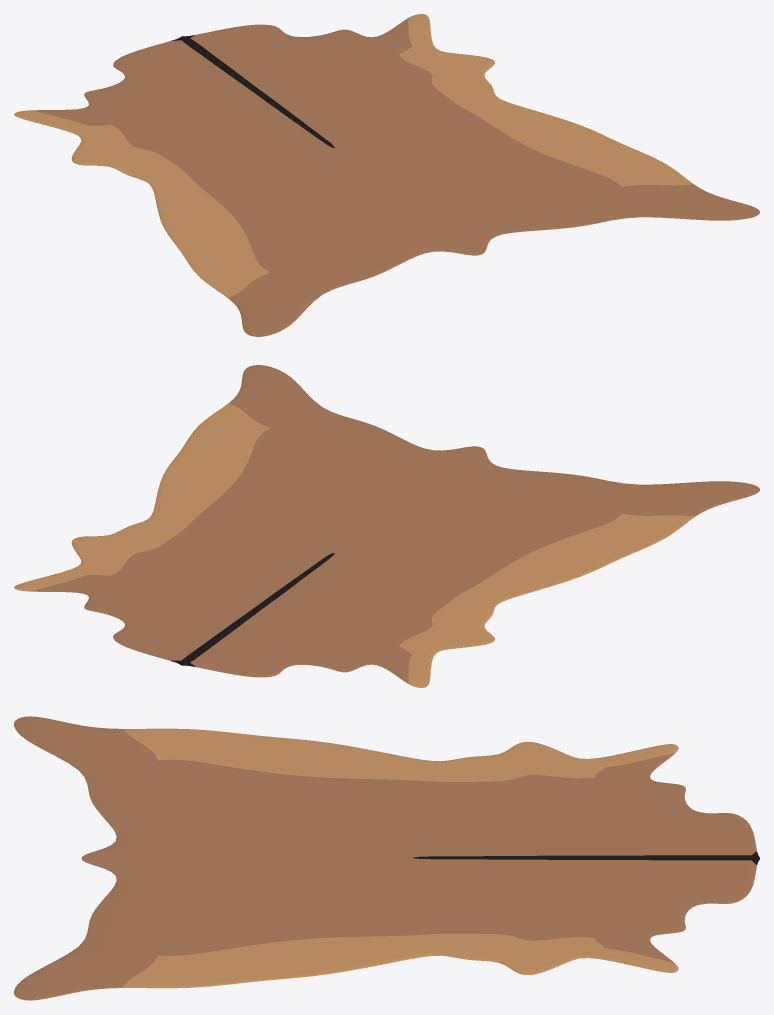
The model's file is mandaderisi.fbx.
3 renders of one model, top to bottom at view 1: azimuth 30°, elevation 25°; view 2: azimuth 150°, elevation 25°; view 3: azimuth 270°, elevation 25°, orthographic. The views are drawn at different scales.
Visible parts, largest first — view 1: Plane.009; view 2: Plane.009; view 3: Plane.009.
Part boxes in pixels (left/top/right/bottom): Plane.009: left=14, top=14, right=759, bottom=336; Plane.009: left=14, top=365, right=759, bottom=687; Plane.009: left=14, top=716, right=759, bottom=1000.
Size of the model in its own units: 448 by 1 by 497.
